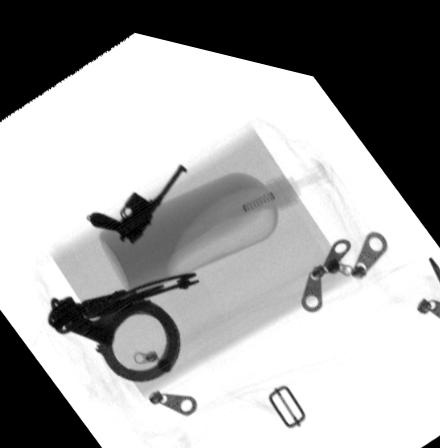Gun: (87, 152, 187, 239)
HandCuffs: (46, 256, 203, 378)
